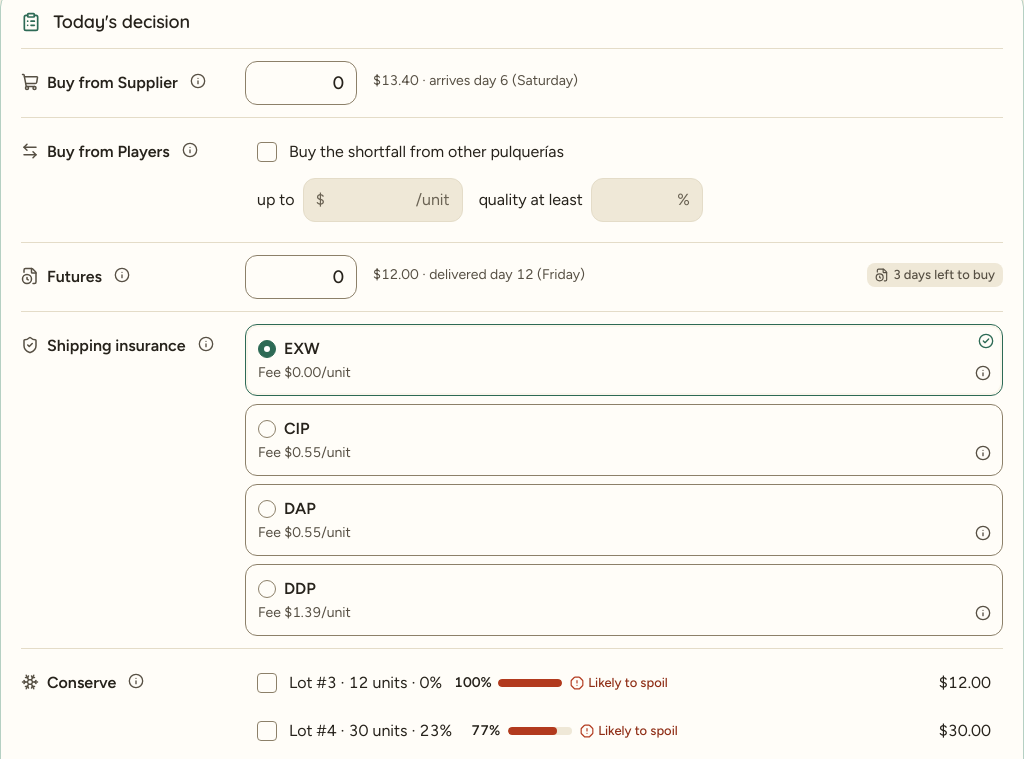
Scenario: Submit day and affordability (acceptance criteria 5 and 9) › a zero total with cash 0 is submittable, a cent over is not
Replace the text in the field named "Buy from Supplier" next to "$13.40 · arrives day 6 (Saturday)" with "1" at (301, 83), box x1=258 y1=69 x2=344 y2=97
(page scrolled)
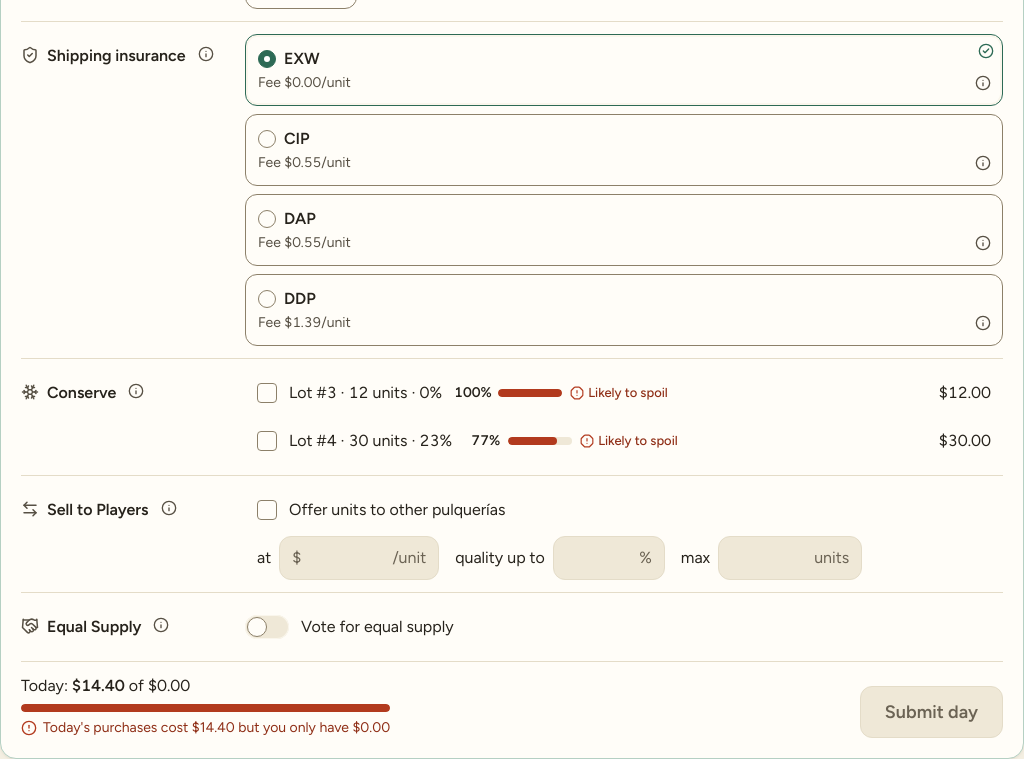
expect the button "Submit day" is disabled: met, box x1=860 y1=686 x2=1003 y2=738
